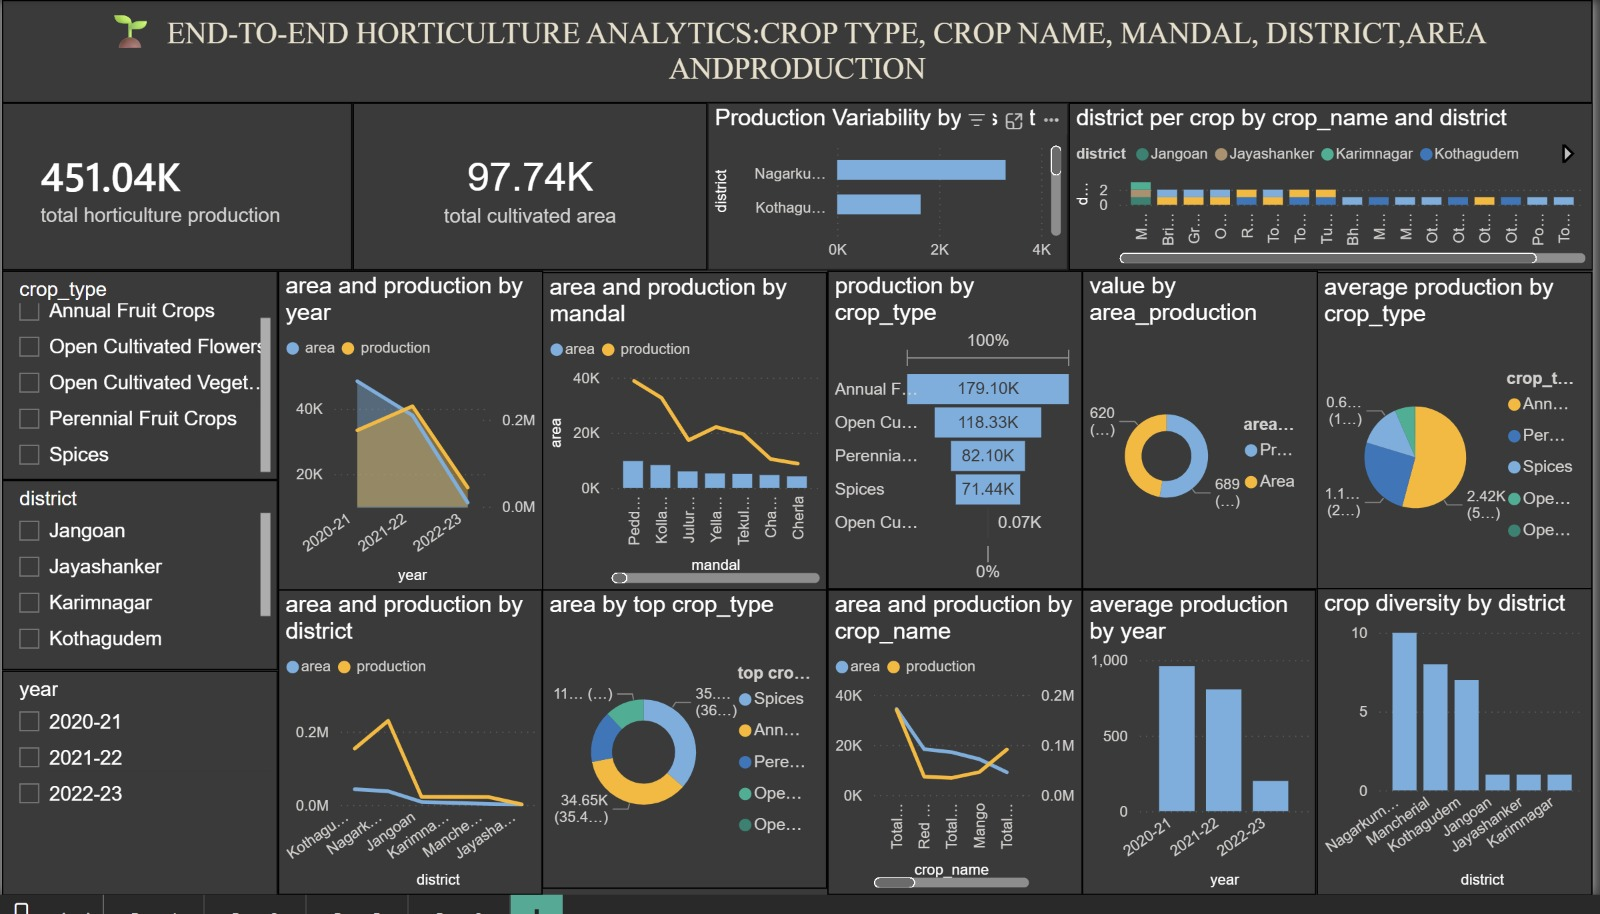

What the dashboard file says about the page in this screenshot:
{"tool":"powerbi","page":{"name":"Page 1","canvas":[1280,720],"ordinal":0},"visuals":[{"type":"card","fields":{"Values":["agriculture area_production.total cultivated area"]},"box":[281.8,82.9,285.6,135.1],"z":0},{"type":"areaChart","fields":{"Category":["agriculture year.year"],"Y":["agriculture area_production.total cultivated area"],"Y2":["agriculture area_production.total horticulture production"]},"box":[222.1,217.8,213.5,257.5],"z":1000},{"type":"cardVisual","fields":{"Data":["agriculture area_production.total horticulture production"]},"box":[0,82.6,282.2,135.2],"z":2000},{"type":"lineChart","fields":{"Category":["agriculture district.district"],"Y":["agriculture area_production.total cultivated area","agriculture area_production.total horticulture production"]},"box":[221.8,474.3,212.9,246.1],"z":3000},{"type":"lineClusteredColumnComboChart","fields":{"Category":["agriculture mandal.mandal"],"Y":["agriculture area_production.total cultivated area"],"Y2":["agriculture area_production.total horticulture production"]},"box":[434.7,219.3,229.5,256.3],"z":4000},{"type":"donutChart","fields":{"Category":["agriculture crop.crop_type"],"Y":["agriculture area_production.total cultivated area"]},"box":[434.7,474.3,229.5,241],"z":5000},{"type":"funnel","fields":{"Category":["agriculture crop.crop_type"],"Y":["agriculture area_production.total horticulture production"]},"box":[664.2,218,205.3,256.3],"z":6000},{"type":"lineChart","fields":{"Category":["agriculture crop.crop_name"],"Y":["agriculture area_production.total cultivated area"],"Y2":["agriculture area_production.total horticulture production"]},"box":[664.2,474.3,205.3,246.1],"z":7000},{"type":"textbox","box":[0,0,1280,82.9],"z":8000},{"type":"donutChart","fields":{"Category":["agriculture area_production.area_production"],"Y":["CountNonNull(agriculture area_production.value)"]},"box":[869.5,218,190,256.3],"z":9000},{"type":"columnChart","fields":{"Y":["agriculture area_production.average production per record"],"Category":["agriculture year.year"]},"box":[869.5,474.3,188.7,246.1],"z":10000},{"type":"pieChart","fields":{"Category":["agriculture crop.crop_type"],"Y":["agriculture area_production.average production per record"]},"box":[1058.2,219.3,221.8,256.3],"z":11000},{"type":"columnChart","fields":{"Y":["agriculture area_production.crop diversity"],"Category":["agriculture district.district"]},"box":[1058.2,473,221.8,247.3],"z":12000},{"type":"barChart","fields":{"Y":["agriculture area_production.Production Variability"],"Category":["agriculture district.district"]},"box":[567.3,82.9,290.7,135.1],"z":13000},{"type":"columnChart","fields":{"Category":["agriculture crop.crop_name"],"Y":["agriculture area_production.district count per crop"],"Series":["agriculture district.district"]},"box":[858,82.9,422,135.1],"z":14001},{"type":"slicer","fields":{"Values":["agriculture crop.crop_type"]},"box":[0,218,221.8,168.3],"z":14002},{"type":"slicer","fields":{"Values":["agriculture district.district"]},"box":[0,386.3,221.8,153],"z":14003},{"type":"slicer","fields":{"Values":["agriculture year.year"]},"box":[0,539.3,221.8,181],"z":14004}]}

Visuals, with their boxes in screenshot pixels (x1, y1, x2, y2), scaled from the page's 1280x720 canvas onto the 1600x914 screenshot:
card - agriculture area_production.total cultivated area: <region>352, 105, 709, 277</region>
areaChart - agriculture year.year x agriculture area_production.total cultivated area: <region>278, 276, 544, 603</region>
cardVisual - agriculture area_production.total horticulture production: <region>0, 105, 353, 276</region>
lineChart - agriculture district.district x agriculture area_production.total cultivated area: <region>277, 602, 543, 913</region>
lineClusteredColumnComboChart - agriculture mandal.mandal x agriculture area_production.total cultivated area: <region>543, 278, 830, 604</region>
donutChart - agriculture crop.crop_type x agriculture area_production.total cultivated area: <region>543, 602, 830, 908</region>
funnel - agriculture crop.crop_type x agriculture area_production.total horticulture production: <region>830, 277, 1087, 602</region>
lineChart - agriculture crop.crop_name x agriculture area_production.total cultivated area: <region>830, 602, 1087, 913</region>
textbox: <region>0, 0, 1599, 105</region>
donutChart - agriculture area_production.area_production x CountNonNull(agriculture area_production.value): <region>1087, 277, 1324, 602</region>
columnChart - agriculture area_production.average production per record x agriculture year.year: <region>1087, 602, 1323, 913</region>
pieChart - agriculture crop.crop_type x agriculture area_production.average production per record: <region>1323, 278, 1599, 604</region>
columnChart - agriculture area_production.crop diversity x agriculture district.district: <region>1323, 600, 1599, 913</region>
barChart - agriculture area_production.Production Variability x agriculture district.district: <region>709, 105, 1072, 277</region>
columnChart - agriculture crop.crop_name x agriculture area_production.district count per crop: <region>1072, 105, 1599, 277</region>
slicer - agriculture crop.crop_type: <region>0, 277, 277, 490</region>
slicer - agriculture district.district: <region>0, 490, 277, 685</region>
slicer - agriculture year.year: <region>0, 685, 277, 913</region>
